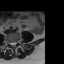CCS_normal: (12, 40, 14, 48)
LFS_normal: (16, 39, 18, 45)
LLS_normal: (14, 40, 16, 46)
RFS_normal: (8, 39, 10, 45)
RLS_normal: (10, 40, 12, 47)
